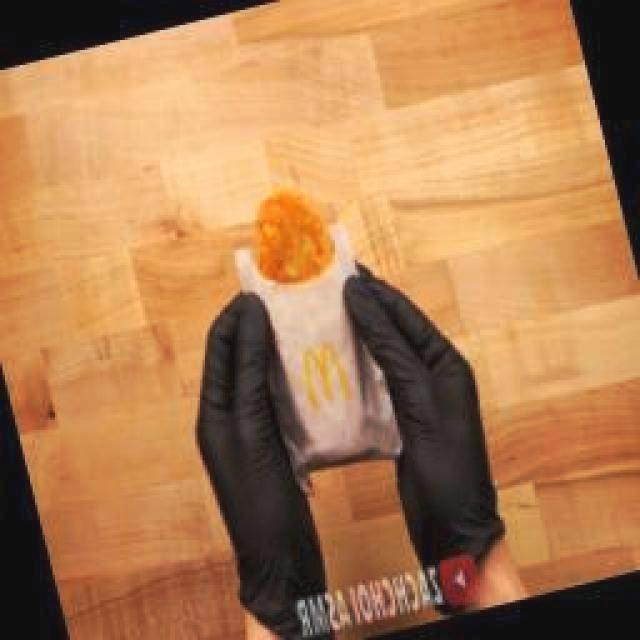Hashbrown: (254, 192, 332, 285)
